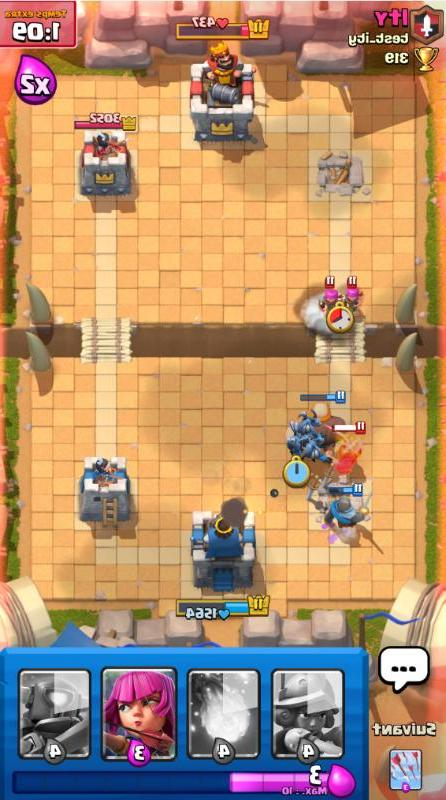archere: (318, 275, 344, 316), (343, 276, 364, 317)
chevalier: (324, 421, 366, 475), (324, 483, 374, 528)
gargouille: (301, 433, 333, 465), (289, 409, 321, 440), (285, 434, 311, 457)
geant: (299, 391, 350, 452)
